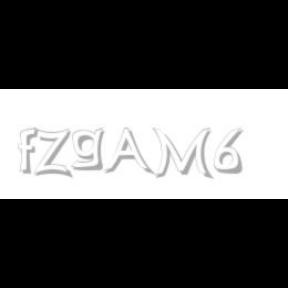6: (214, 128, 242, 176)
A: (103, 128, 151, 176)
M: (152, 128, 212, 180)
Z: (34, 128, 70, 178)
f: (18, 128, 42, 174)
g: (72, 128, 108, 171)
